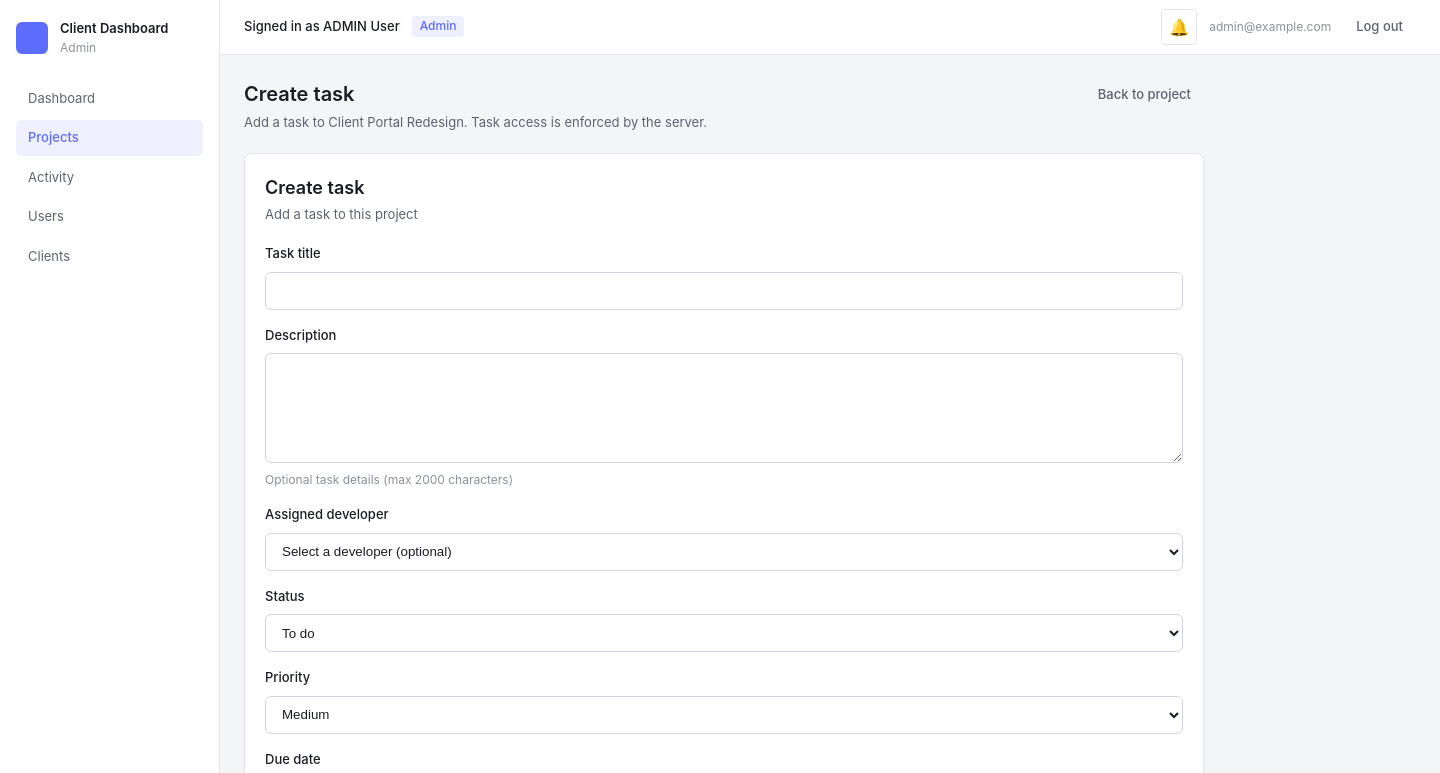
Task management UI › creates a task and navigates to the new task detail page
Type "New Task" into the field labelled "Task title" at (724, 290), box left=265, top=272, right=1183, bottom=310
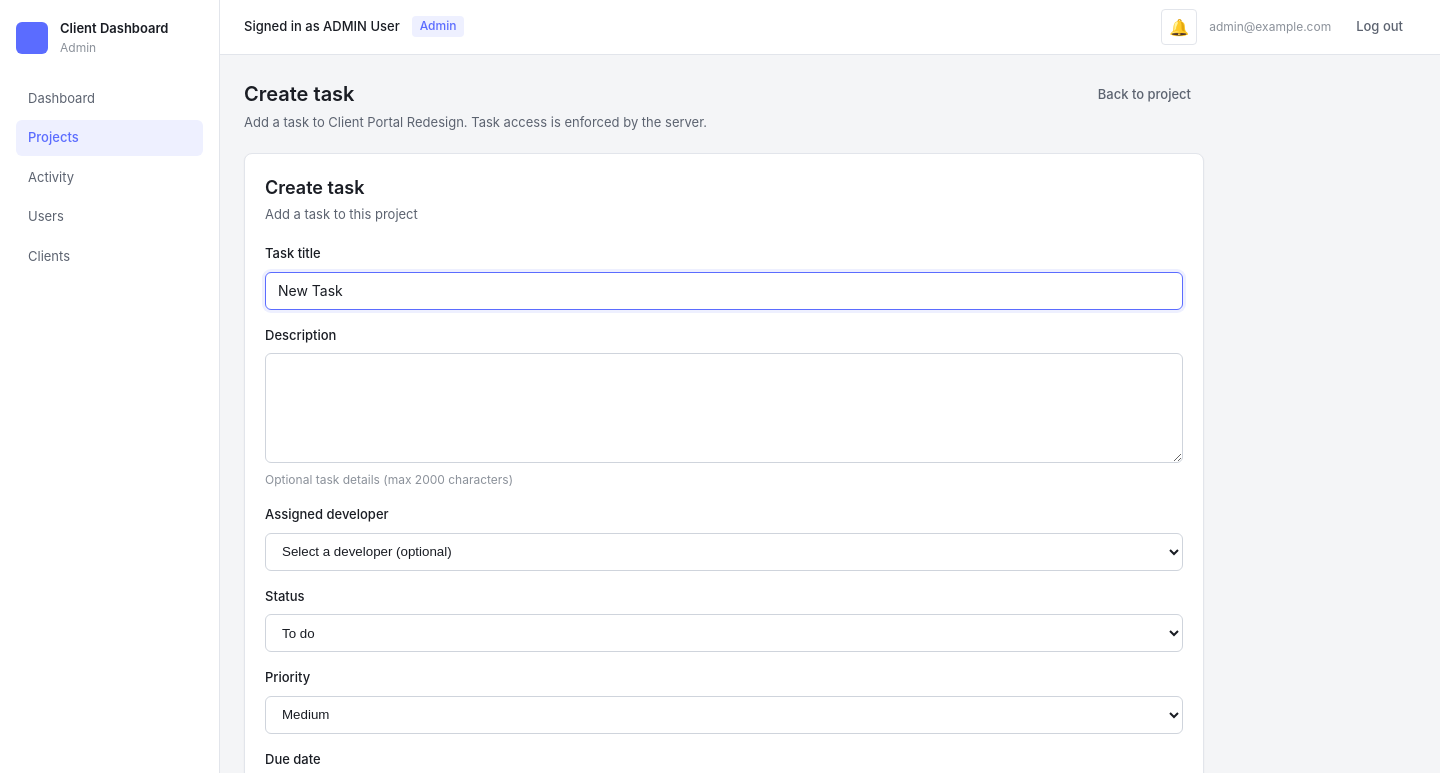
Select "Dev One (dev1@example.com)" in the dropdown labelled "Assigned developer" at (724, 552), box left=265, top=532, right=1183, bottom=570
(page scrolled)
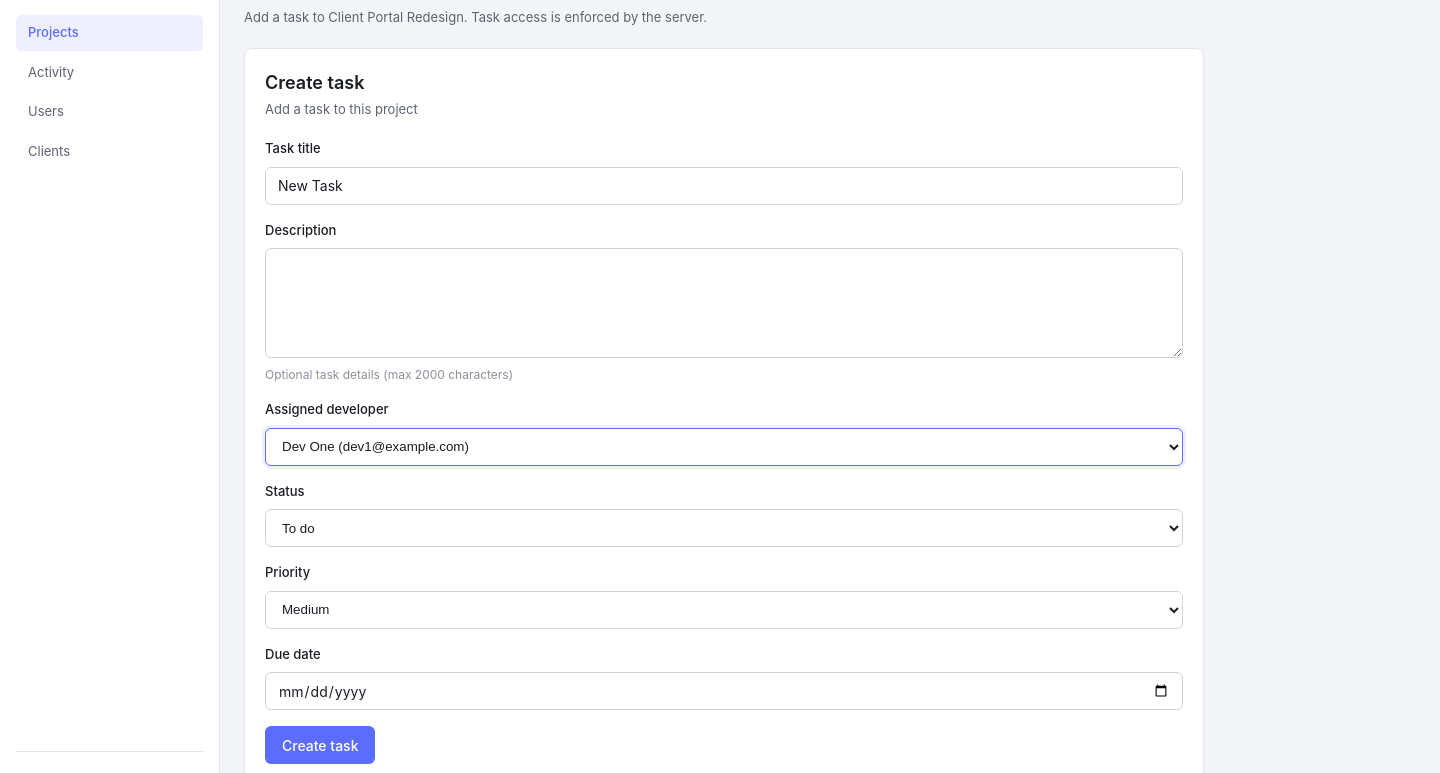
Click the button "Create task" at (320, 745), box left=265, top=726, right=376, bottom=764
(page scrolled)
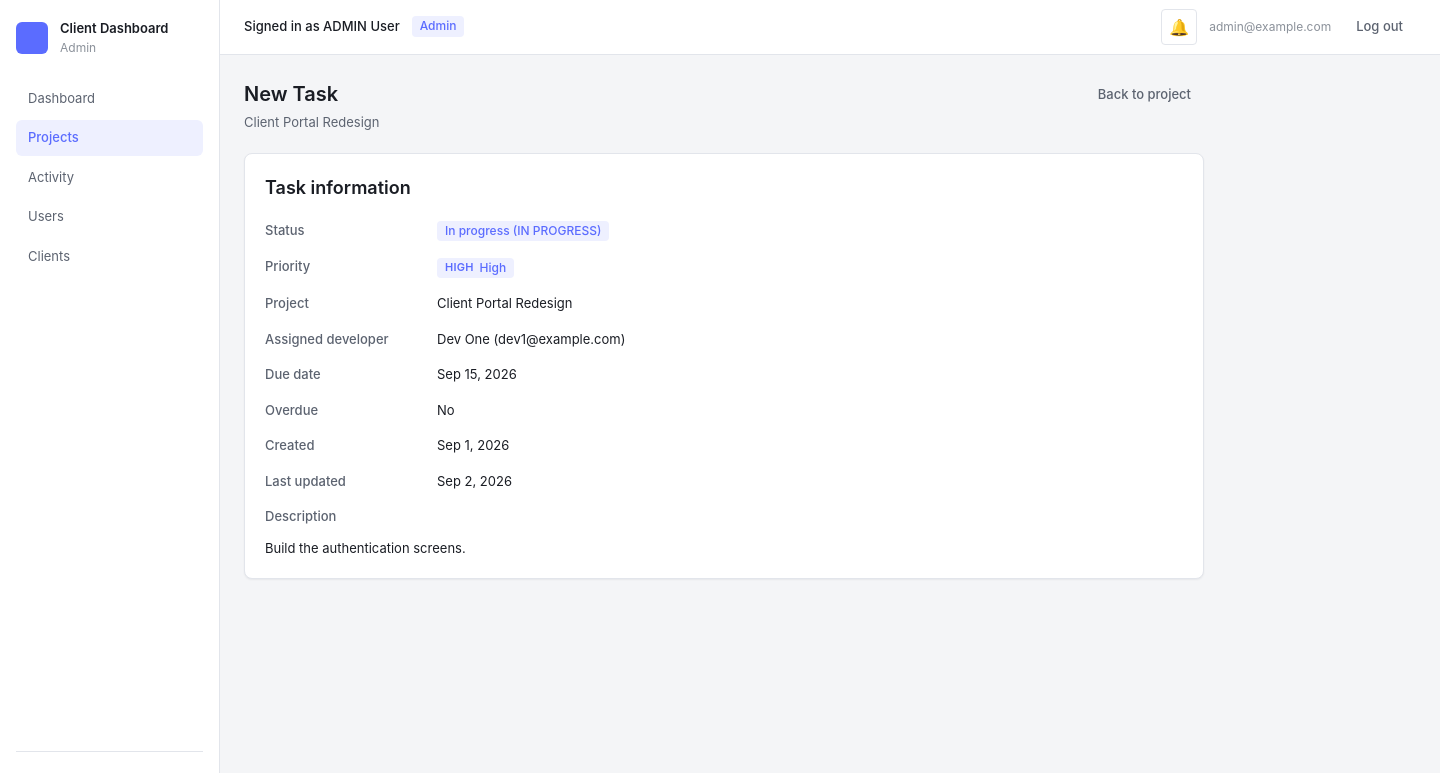
expect the heading "New Task" is shown: met, box left=244, top=82, right=338, bottom=106
